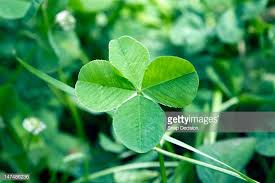4-clover: (79, 37, 199, 150)
